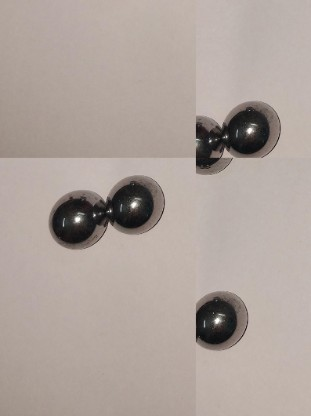ironball: (101, 170, 168, 238), (197, 282, 253, 356), (44, 188, 108, 249), (226, 100, 282, 155), (193, 111, 229, 177)
